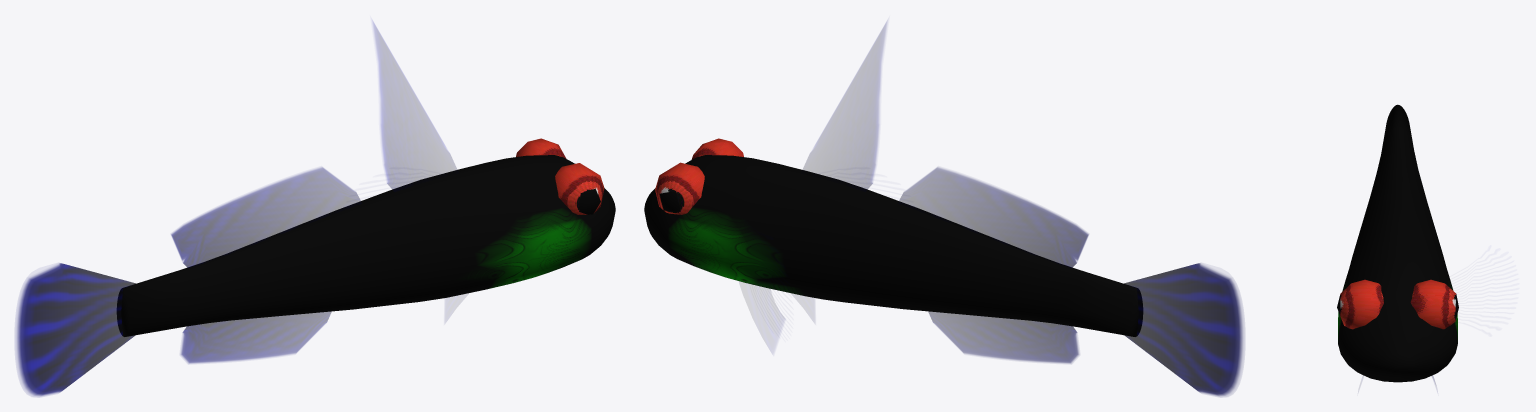
The model's file is mandarin_lod1.glb.
3 renders of one model, left to right at view 1: azimuth 30°, elevation 25°; view 2: azimuth 150°, elevation 25°; view 3: azimuth 270°, elevation 25°, orthographic. The views are drawn at different scales.
Visible parts, largest first — view 1: Body, FinCaudal, FinDorsal2, FinDorsal, FinAnal, EyeR, EyeL; view 2: Body, FinCaudal, FinDorsal2, FinDorsal, FinAnal, EyeL, EyeR; view 3: Body, EyeL, EyeR.
Part boxes in pixels (x1,y1,x2,y2): Body: (117, 155, 615, 336); FinCaudal: (15, 263, 137, 396); FinDorsal2: (171, 167, 361, 268); FinDorsal: (373, 22, 458, 191); FinAnal: (180, 311, 331, 363); EyeR: (555, 163, 604, 214); EyeL: (516, 138, 566, 158); Body: (644, 155, 1142, 336); FinCaudal: (1122, 263, 1244, 396); FinDorsal2: (898, 167, 1088, 268); FinDorsal: (801, 22, 886, 191); FinAnal: (928, 311, 1079, 363); EyeL: (655, 162, 704, 214); EyeR: (691, 138, 743, 159); Body: (1338, 104, 1457, 382); EyeL: (1410, 279, 1458, 329); EyeR: (1337, 279, 1383, 329).
Size of the model in its own units: 1 by 0.5613 by 0.3703.
4 materials, 3 textured.
